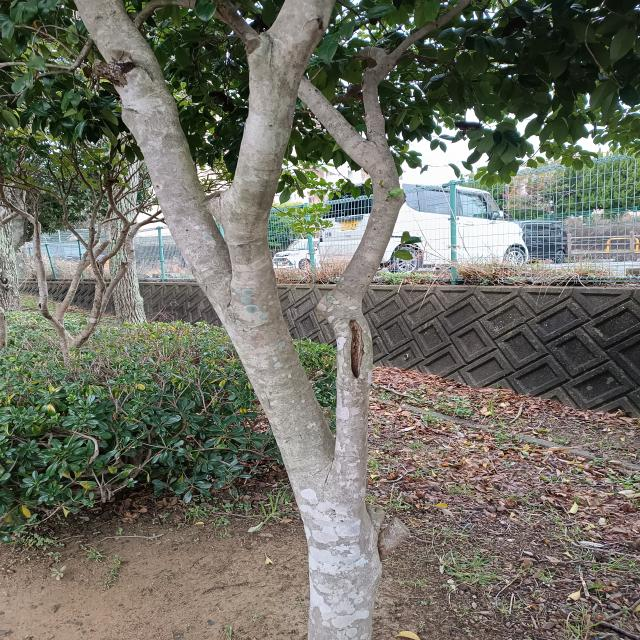Branch: (76, 0, 231, 314), (207, 0, 337, 305), (317, 143, 406, 476), (219, 286, 336, 484)
Twig: (134, 0, 259, 41), (301, 77, 365, 154), (390, 0, 471, 60), (363, 55, 395, 147), (356, 47, 387, 59)
